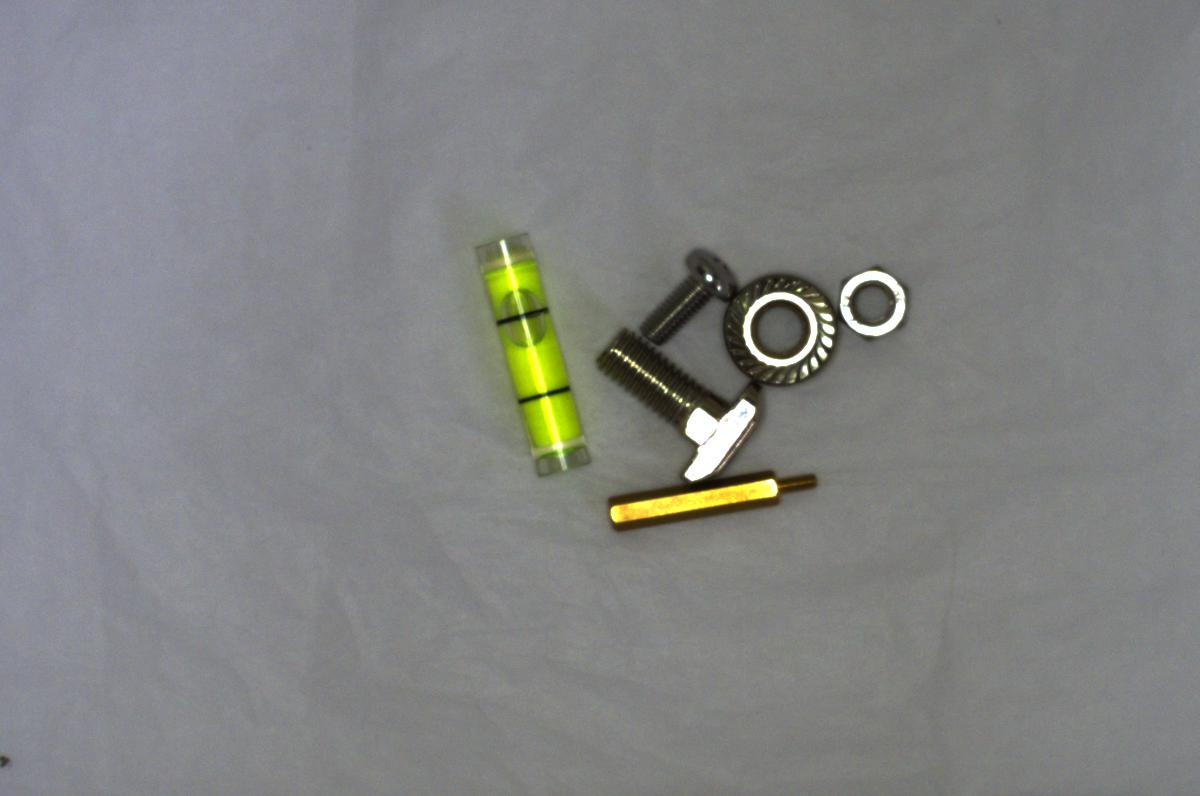Flange nut: (715, 269, 837, 388)
Hexagon nut: (834, 260, 912, 345)
Hexagon pillar: (598, 468, 824, 540)
Horizontal bubble: (471, 229, 595, 476)
Round head screw: (637, 242, 734, 345)
T-shaped screw: (594, 329, 767, 479)
